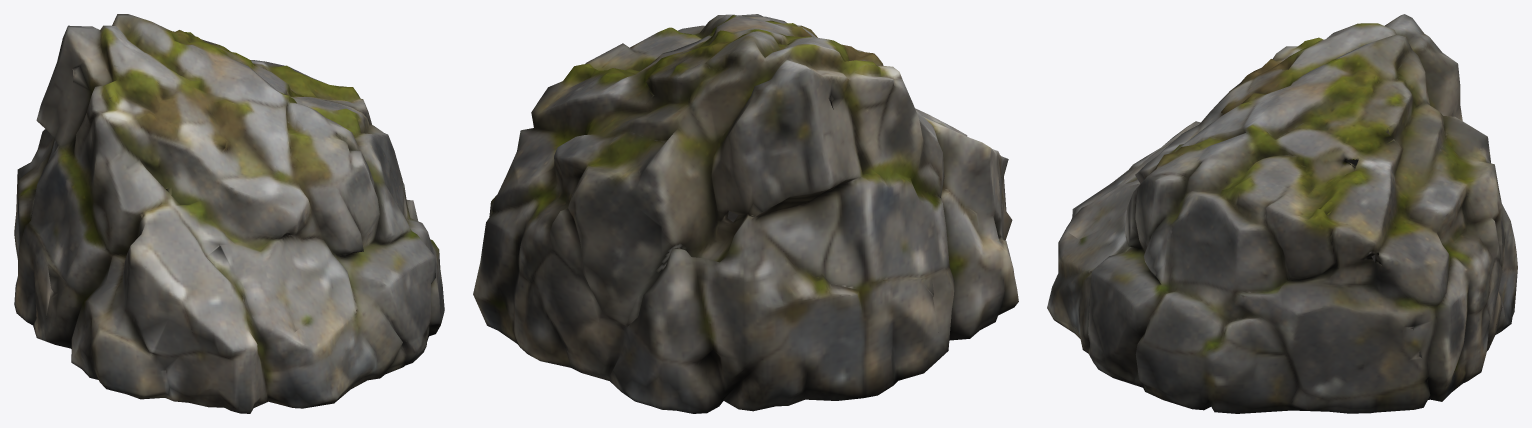
Rendered from rock_2.glb.
The picture shows the model from 3 angles, left to right: view 1: azimuth 30°, elevation 25°; view 2: azimuth 150°, elevation 25°; view 3: azimuth 270°, elevation 25°; orthographic projection. The views are drawn at different scales.
Parts seen in each view (by area): view 1: MV_rock_2; view 2: MV_rock_2; view 3: MV_rock_2.
Boxes of the visible parts, left/top/right/bottom form: MV_rock_2: left=14, top=14, right=444, bottom=413; MV_rock_2: left=473, top=14, right=1018, bottom=413; MV_rock_2: left=1047, top=14, right=1517, bottom=413.
Size of the model in its own units: 2.45 by 1.8 by 2.86.
1 material, 1 textured.
